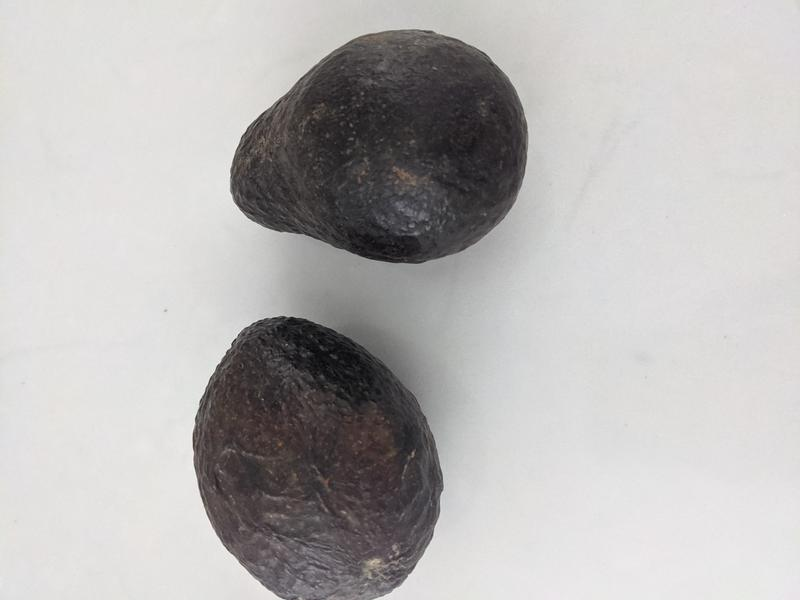avocado: (190, 316, 444, 600), (229, 30, 529, 265)
